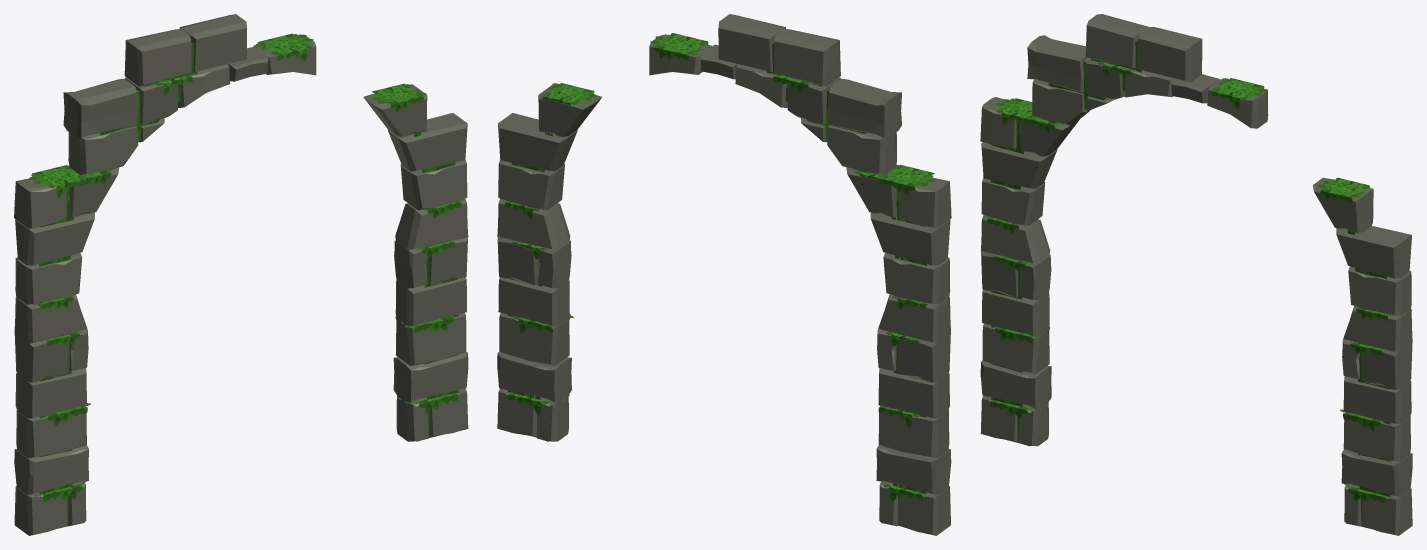
The model's file is archBroken.glb.
The picture shows the model from 3 angles, left to right: view 1: azimuth 30°, elevation 25°; view 2: azimuth 150°, elevation 25°; view 3: azimuth 330°, elevation 25°; orthographic projection. The views are drawn at different scales.
Visible parts, largest first — view 1: Wall_ArchRound_Overgrown_Broken; view 2: Wall_ArchRound_Overgrown_Broken; view 3: Wall_ArchRound_Overgrown_Broken.
Part boxes in pixels (<box>): Wall_ArchRound_Overgrown_Broken: <box>14,14,468,535</box>; Wall_ArchRound_Overgrown_Broken: <box>497,14,951,535</box>; Wall_ArchRound_Overgrown_Broken: <box>980,14,1412,535</box>.
Bounding box in the file's own units: 3.99 × 3.99 × 0.3161.
Materials: 3 (1 with a texture image).
